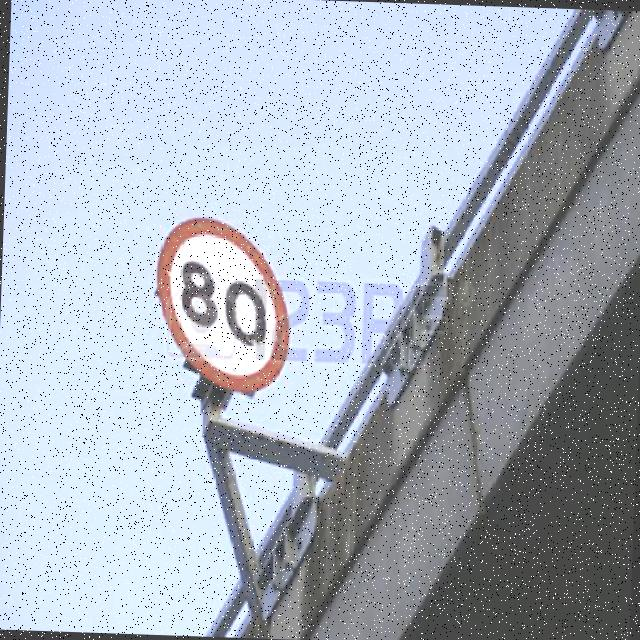Ograniczenie predkosci do 80: (154, 213, 298, 404)
